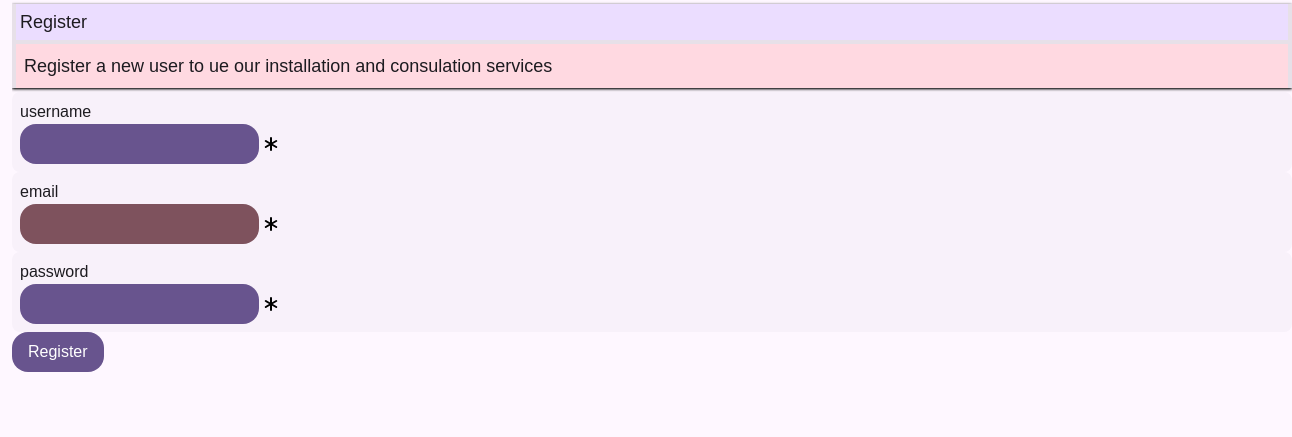
it: RegisterPage › shows required field errors when all fields are empty
The image size is (1292, 437).
Click the button "Register" at (58, 352), box x1=12 y1=332 x2=104 y2=372
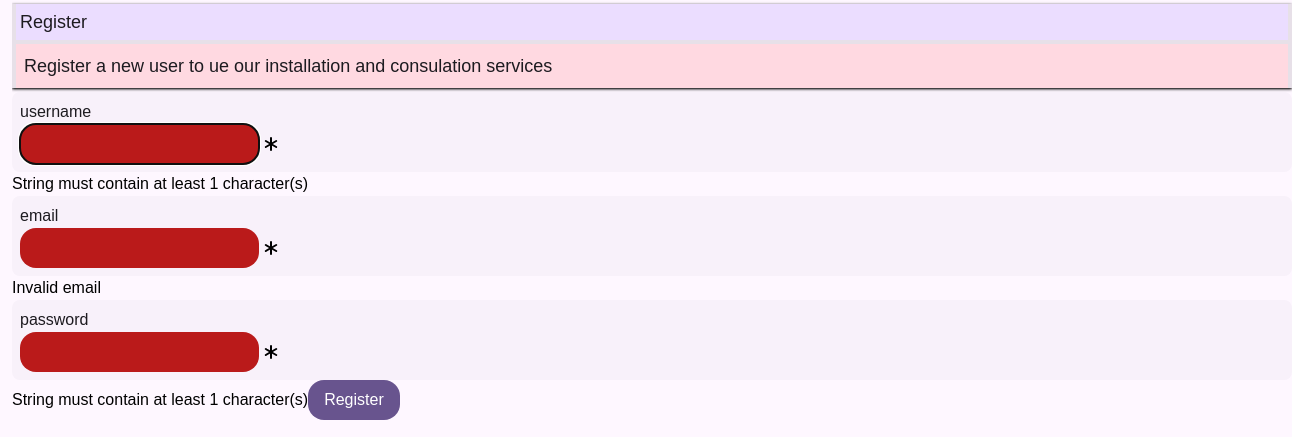
Expected: the text "String must contain at least 1 character(s)" is shown 2 times, x1=12 y1=175 x2=308 y2=192; x1=12 y1=391 x2=308 y2=408
Expected: the text "Invalid email" is shown, x1=12 y1=279 x2=101 y2=296
